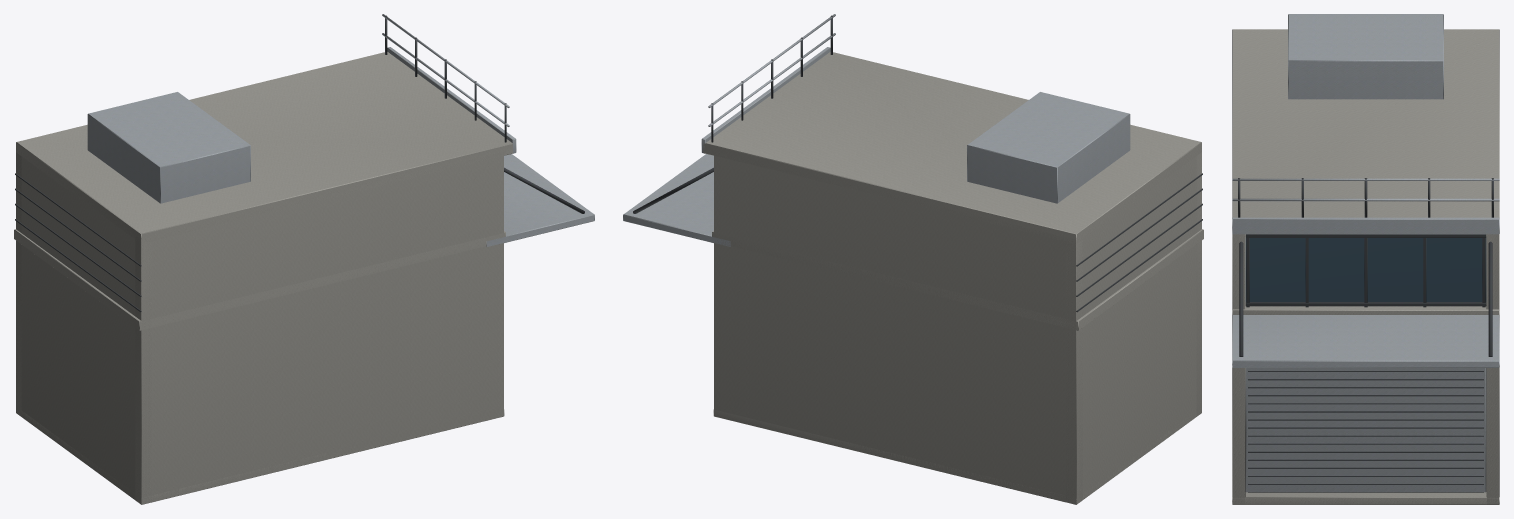
The model's file is hill-pit-garage_high.glb.
3 views of the same model, side by side, from view 1: azimuth 30°, elevation 25°; view 2: azimuth 150°, elevation 25°; view 3: azimuth 270°, elevation 25° (orthographic). The views are drawn at different scales.
Visible parts, largest first — view 1: concrete, galvanised, dark-steel; view 2: concrete, galvanised, dark-steel; view 3: galvanised, concrete, glazing, dark-steel.
Part boxes in pixels (x1=…): concrete: x1=14, y1=52, x2=512, y2=504; galvanised: x1=87, y1=14, x2=594, y2=246; dark-steel: x1=15, y1=15, x2=584, y2=312; concrete: x1=703, y1=52, x2=1203, y2=504; galvanised: x1=623, y1=14, x2=1130, y2=246; dark-steel: x1=633, y1=15, x2=1202, y2=312; galvanised: x1=1232, y1=14, x2=1499, y2=492; concrete: x1=1232, y1=29, x2=1499, y2=504; glazing: x1=1245, y1=238, x2=1486, y2=301; dark-steel: x1=1238, y1=178, x2=1493, y2=492.
Size of the model in its own units: 12.55 by 8.15 by 6.
6 materials, 4 textured.
